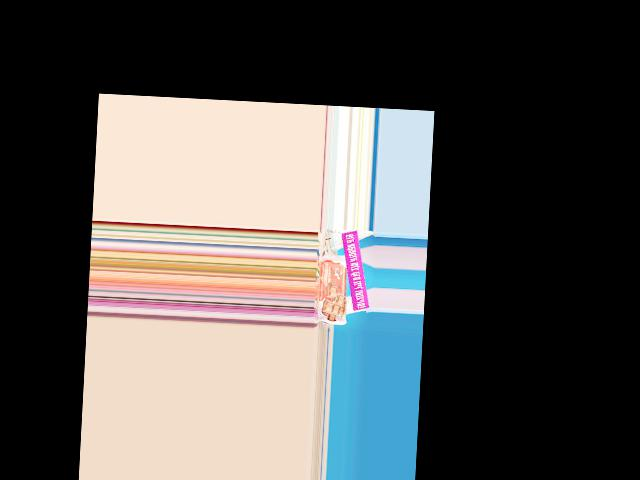chocolate: (315, 252, 350, 326)
